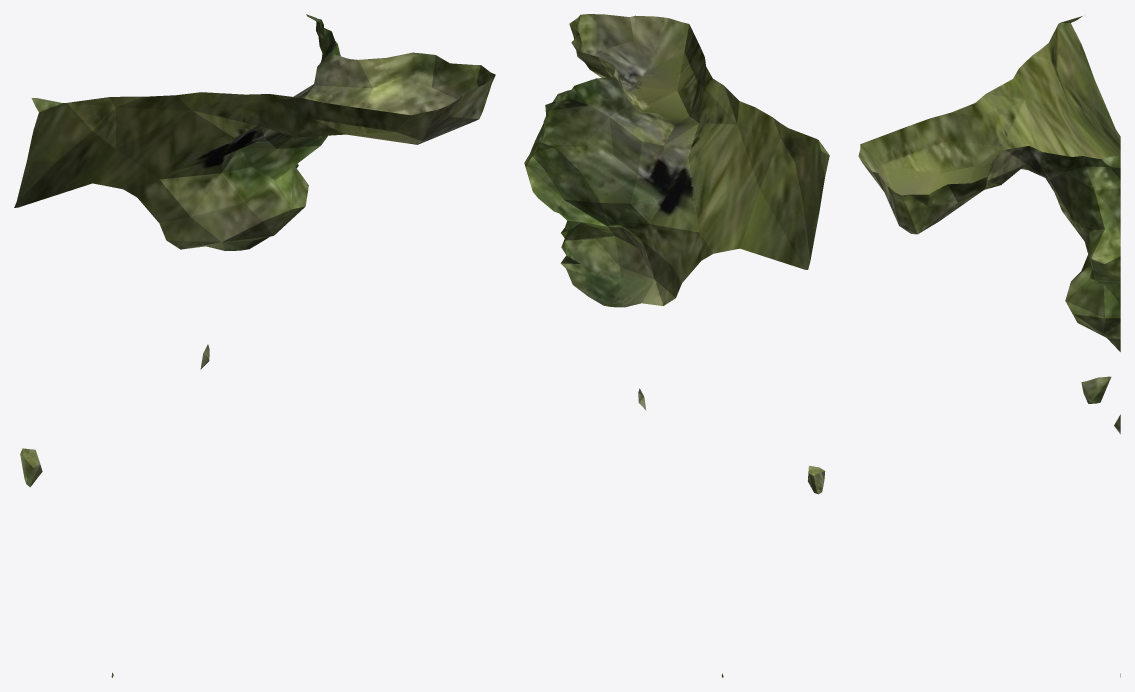
3 views of the same model, side by side, from view 1: azimuth 30°, elevation 25°; view 2: azimuth 150°, elevation 25°; view 3: azimuth 270°, elevation 25° (orthographic). The views are drawn at different scales.
Bounding box in the file's own units: 3.72 × 5.89 × 2.27.
1 material, 1 textured.
